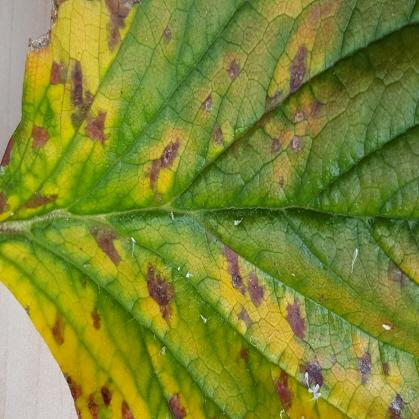Angular Leafspot: (0, 0, 418, 418)
